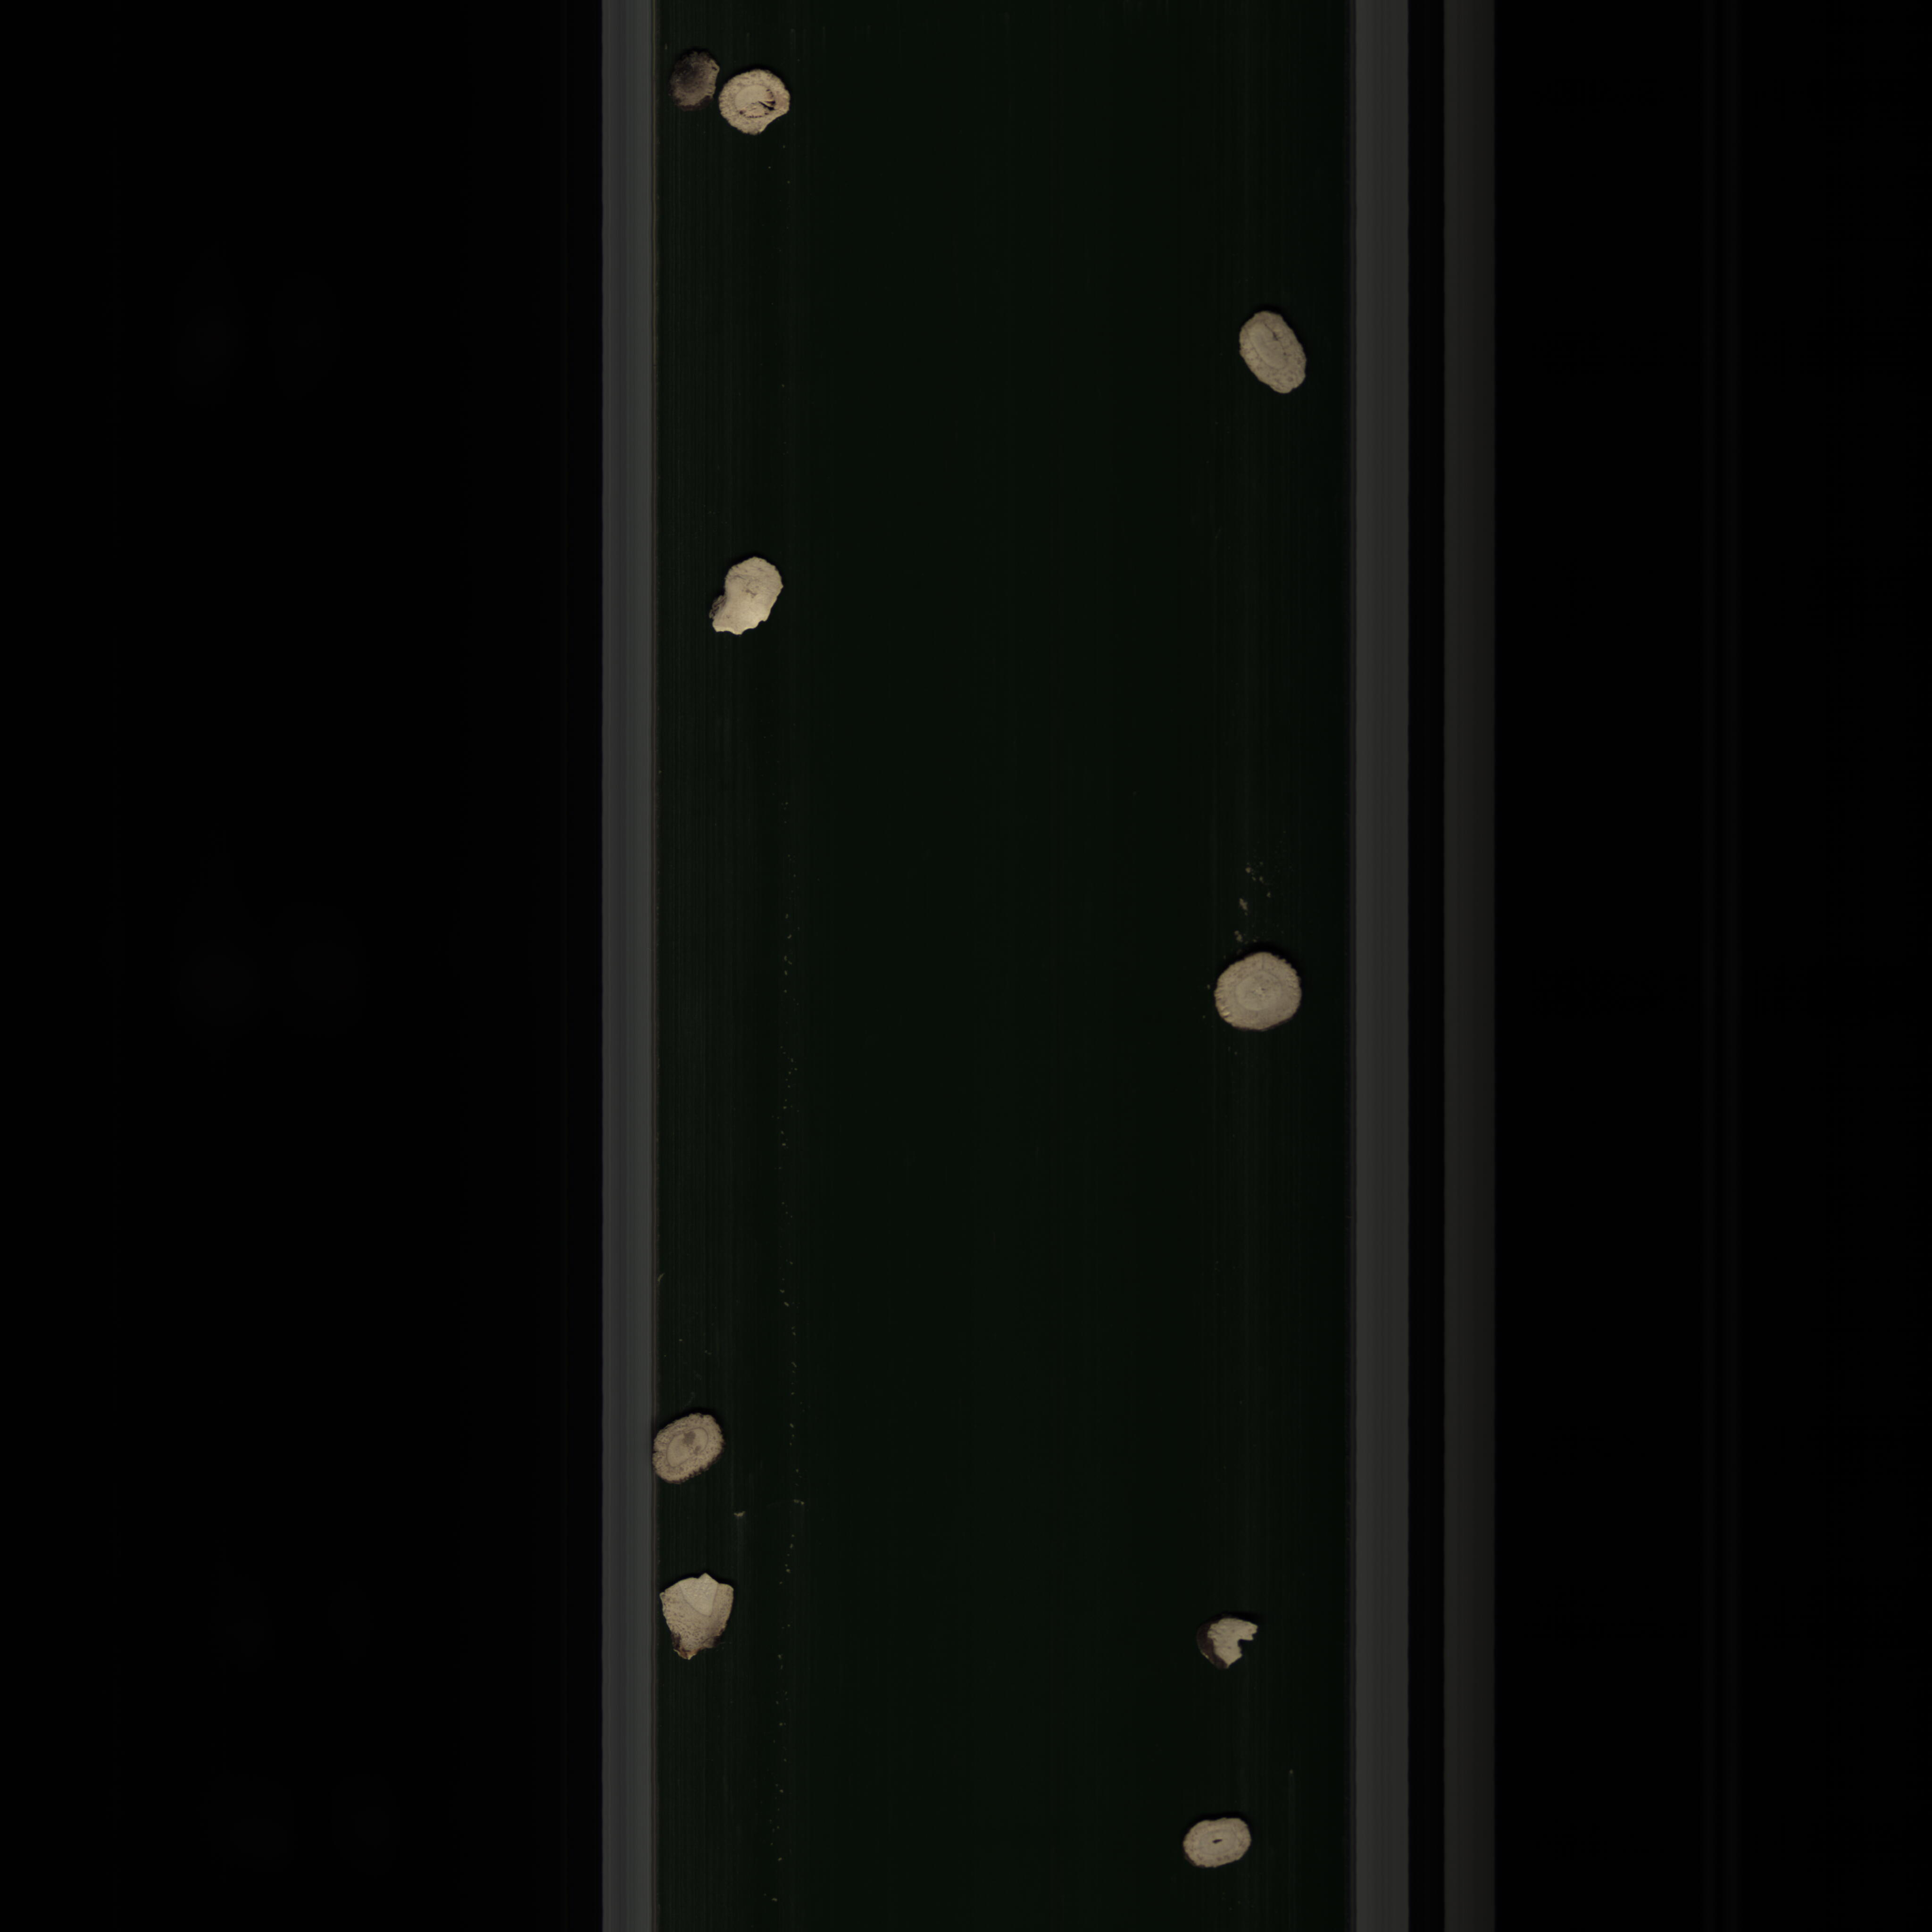debris: (658, 1564, 752, 1668), (702, 554, 800, 640), (1169, 1612, 1269, 1683)
hole: (718, 69, 812, 147), (1180, 1817, 1258, 1884)
moldy: (665, 42, 718, 110)
